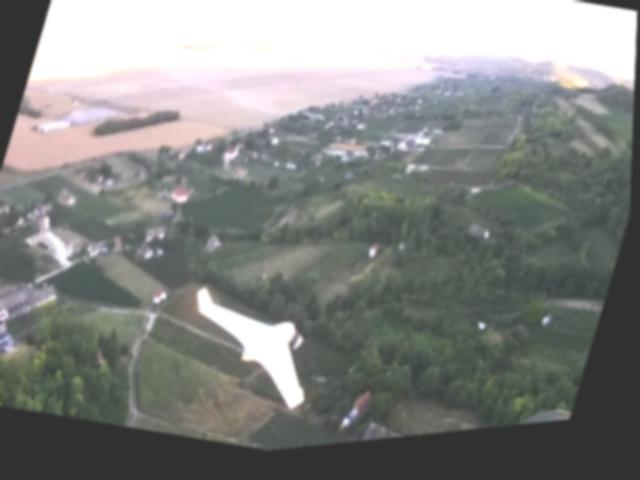plane: (171, 281, 333, 429)
